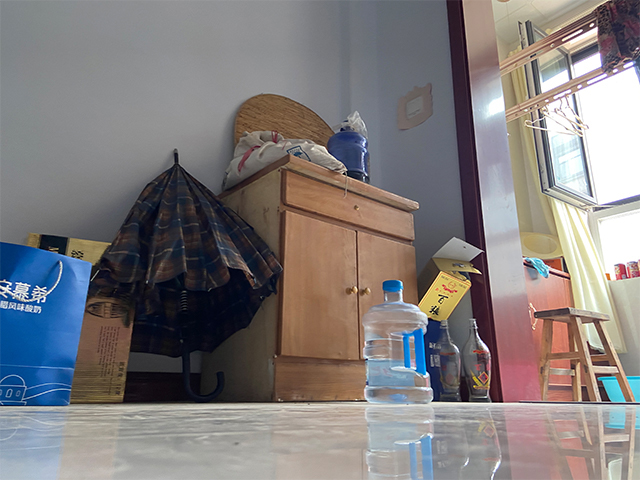cabinet: (230, 155, 419, 404)
stool: (534, 307, 637, 404)
